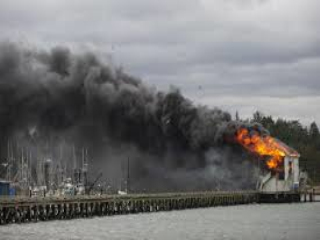fire: (241, 129, 295, 169)
smoke: (23, 56, 246, 189)
